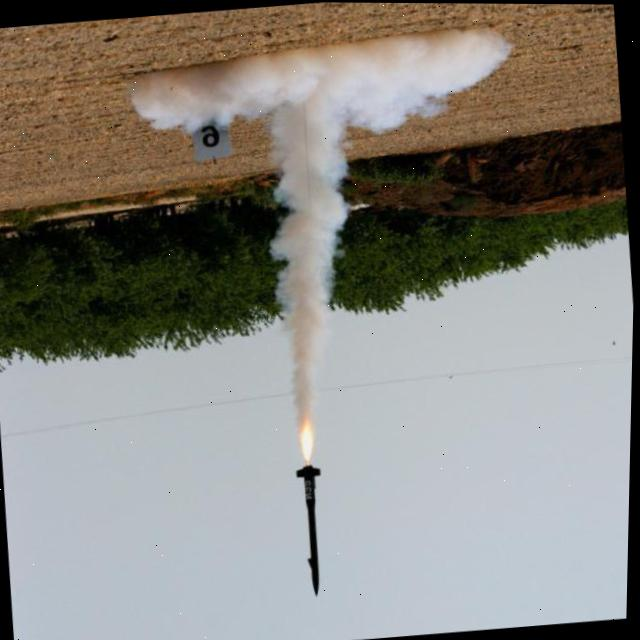missile: (296, 455, 339, 593)
